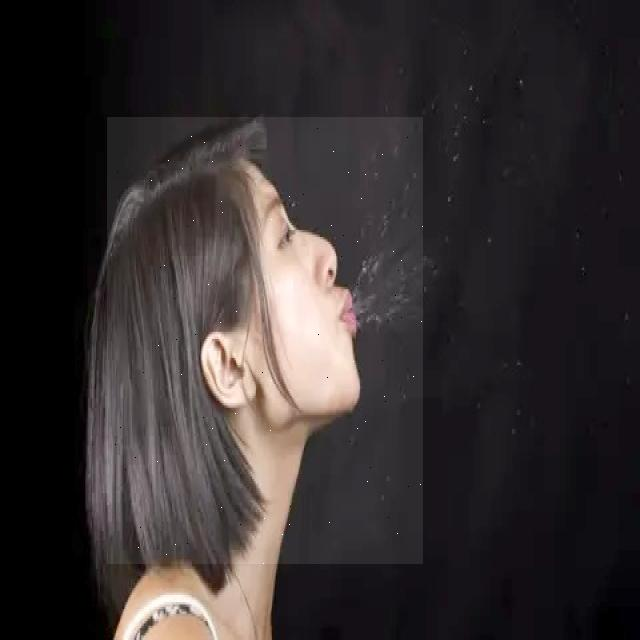Spitting: (107, 117, 423, 564)
